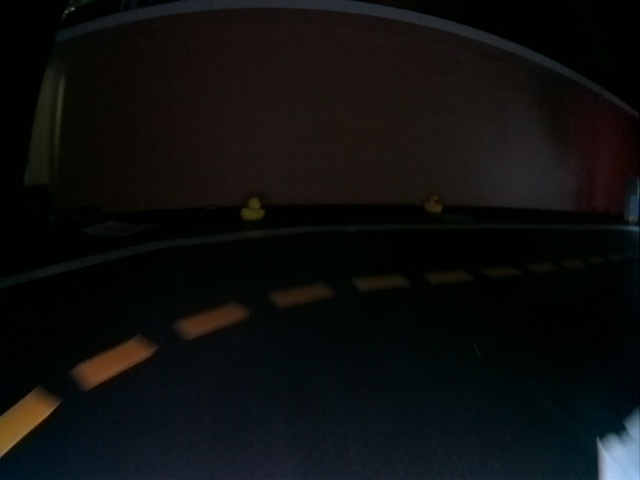Duckie: (241, 198, 265, 218), (426, 196, 443, 213)
